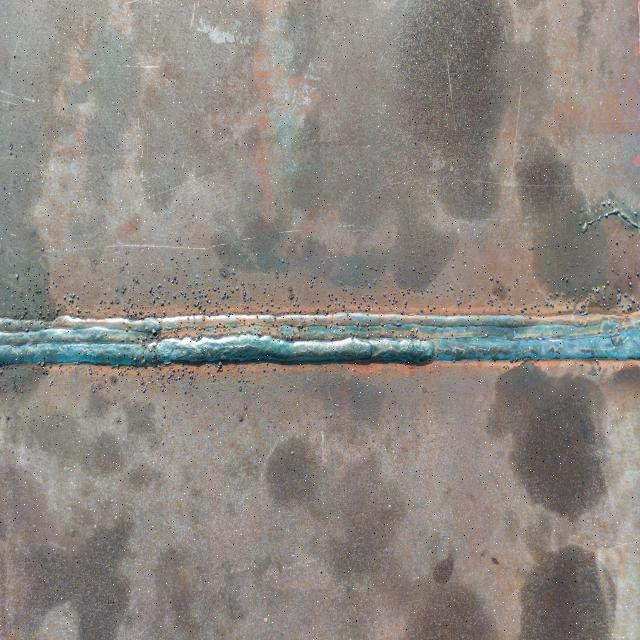Bad Welding: (0, 309, 639, 369)
Spatters: (168, 276, 210, 305), (232, 288, 298, 306), (212, 372, 262, 385), (151, 374, 195, 384), (136, 294, 165, 305), (61, 296, 84, 304)
